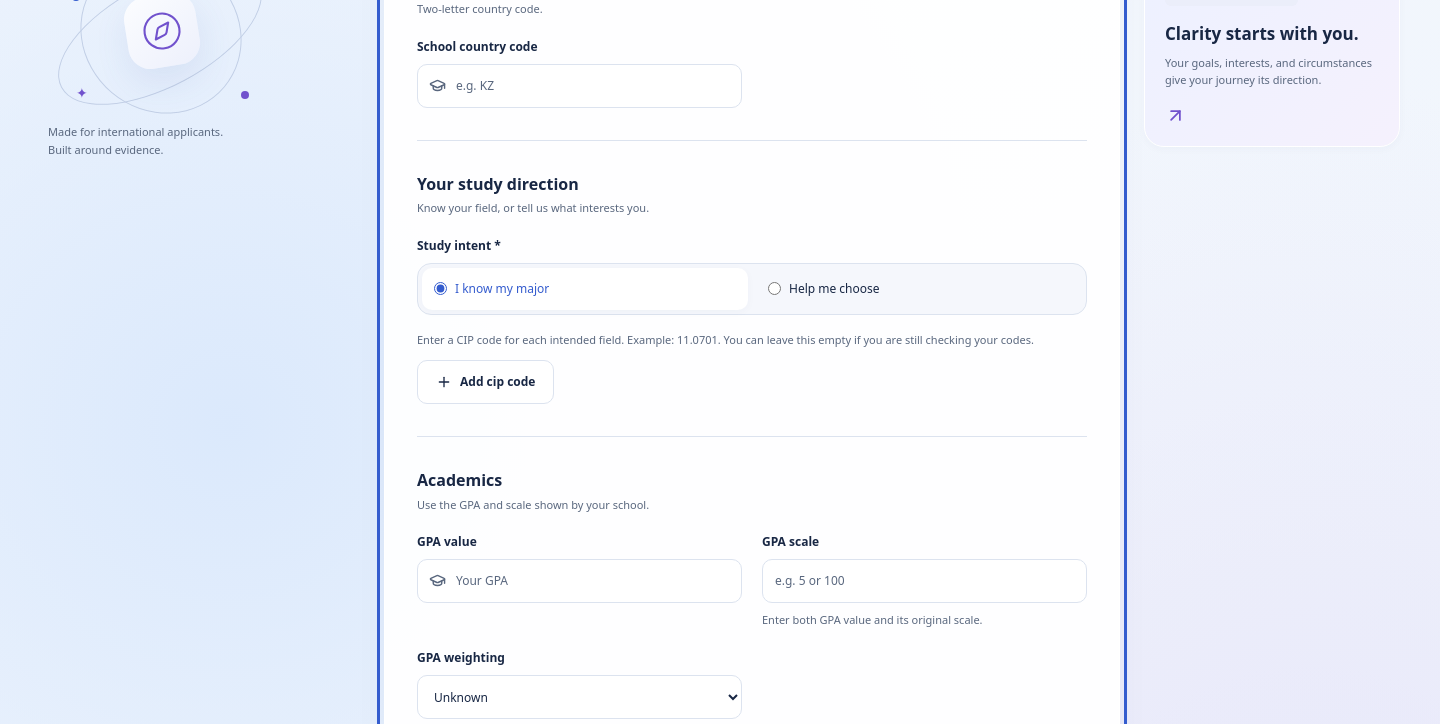
Test: working profile › allows adding/removing CIP rows and prevents blank repeated entries
This screenshot has width=1440, height=724.
(page scrolled)
Click the button "Add cip code". click: (486, 382)
box: [417,360,554,404]
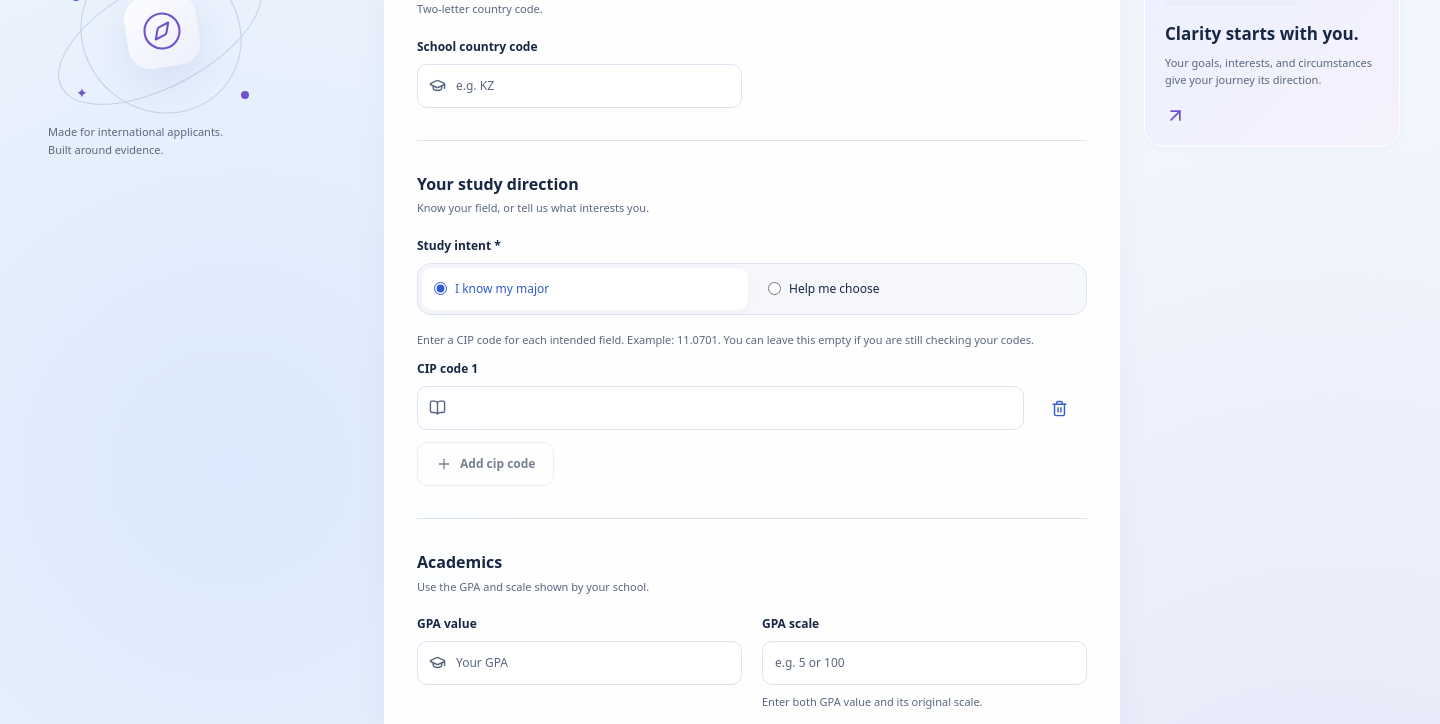
Result: the button "Add cip code" is disabled at [417,442,554,486]
Type "11.0701" into the field labelled "CIP code 1". click: (720, 408)
box: [417,386,1024,430]
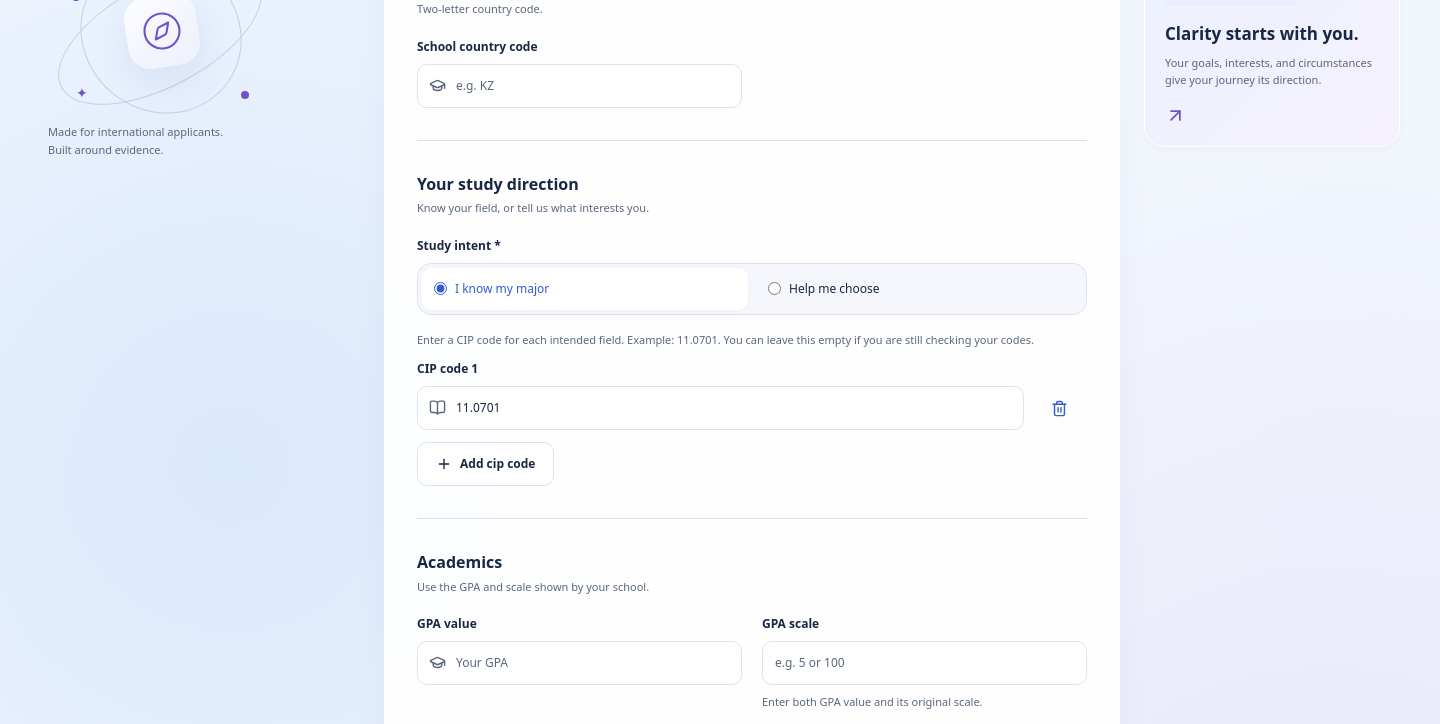
Click the button "Add cip code". click: (486, 464)
box: [417,442,554,486]
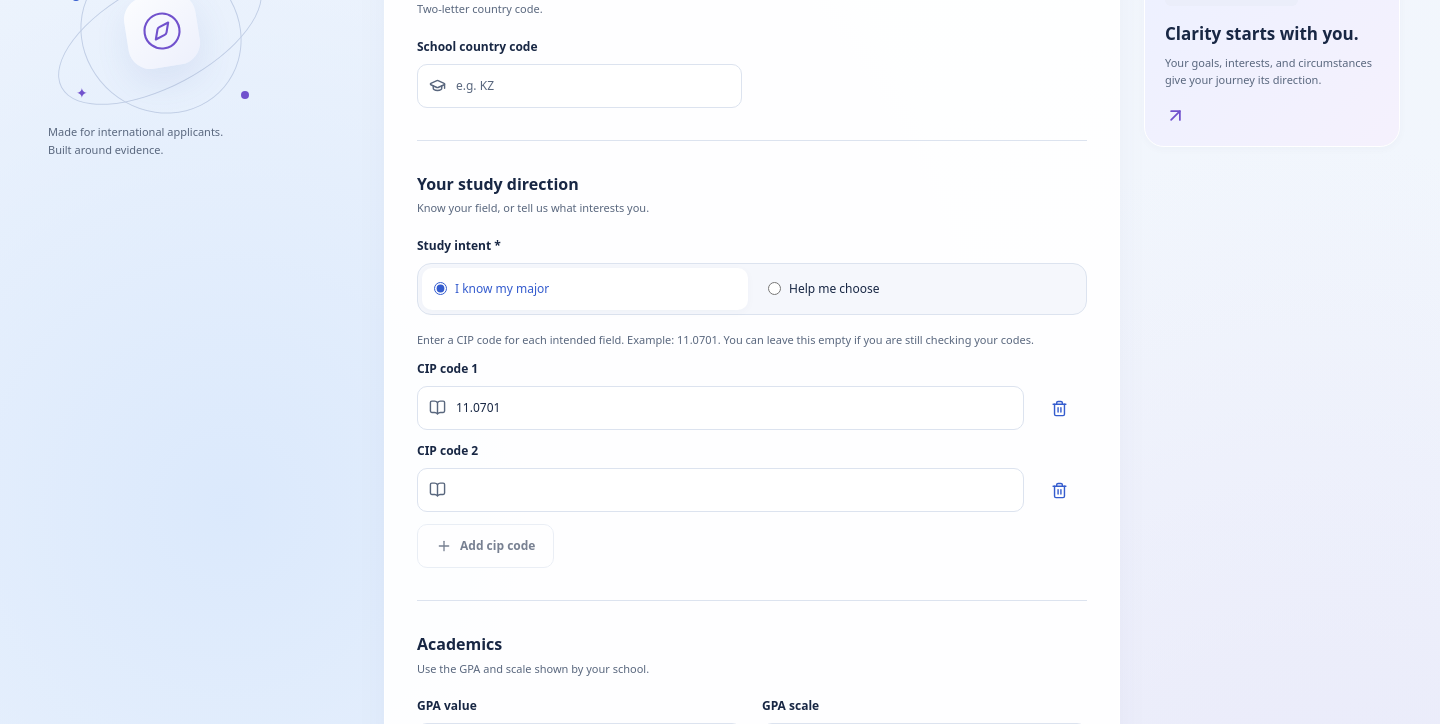
Type "14.0101" into the field labelled "CIP code 2". click: (720, 490)
box: [417,468,1024,512]
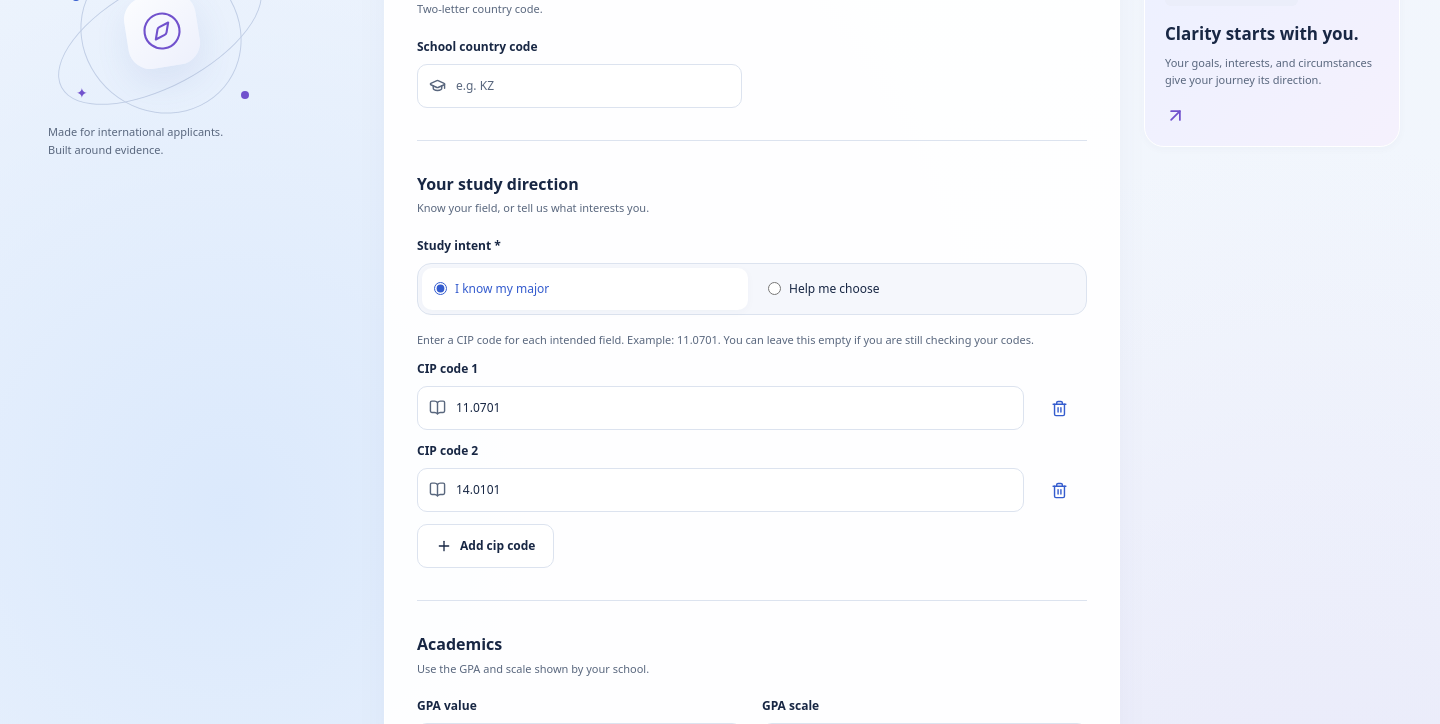
Click the button named "Remove cip code 1". click: (1060, 408)
box: [1032,386,1087,430]
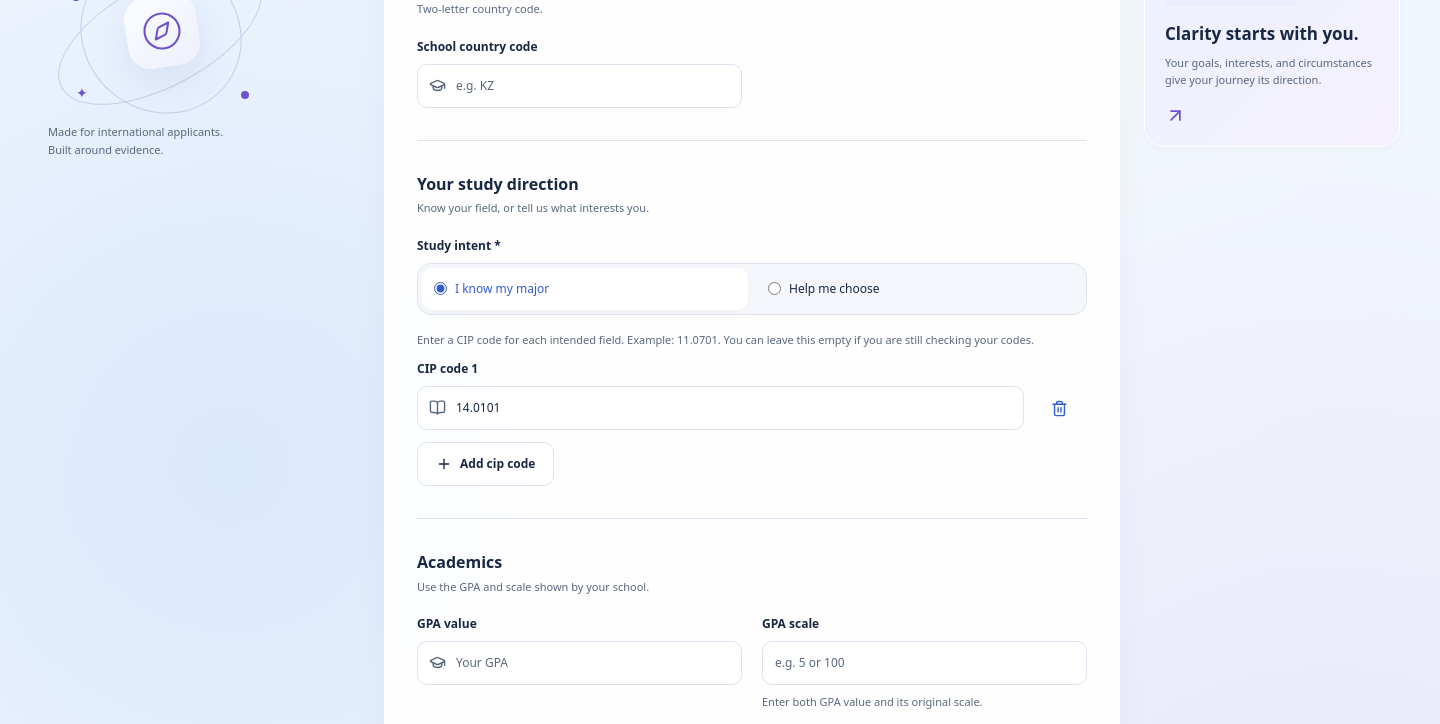
Result: the label labelled "CIP code 2" is gone
